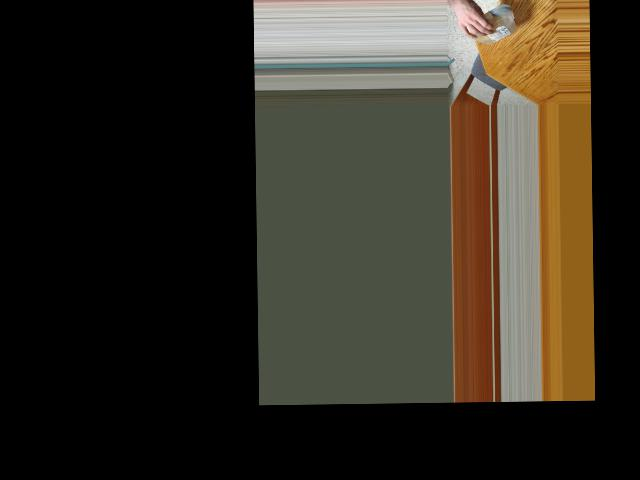cheese: (473, 8, 514, 38)
